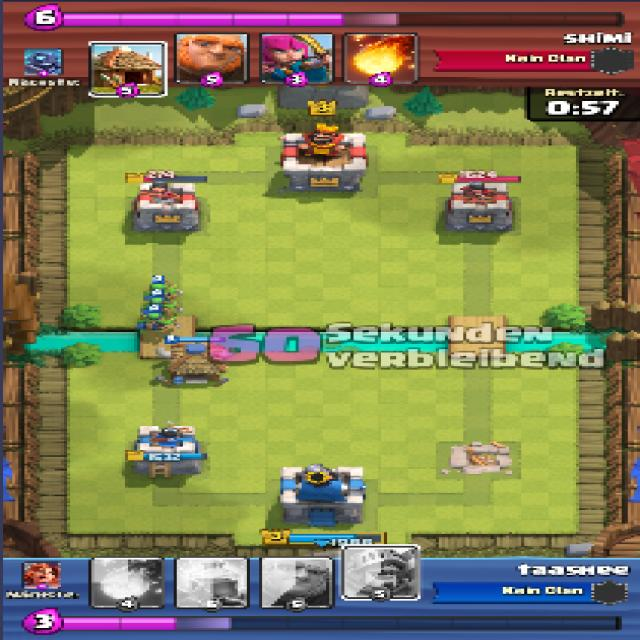Player-GoblinHut: (150, 342, 235, 387)
Player-SpearGoblin: (140, 312, 177, 331), (144, 297, 181, 316), (144, 284, 177, 302)
